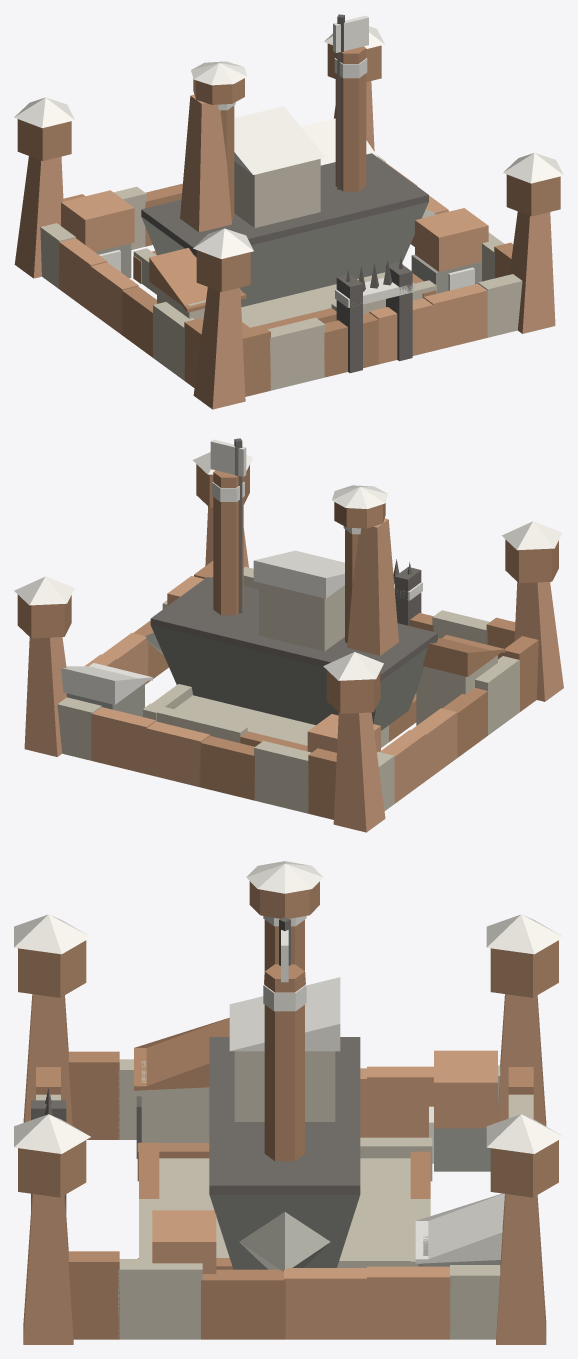
The model's file is capital.glb.
3 renders of one model, top to bottom at view 1: azimuth 30°, elevation 25°; view 2: azimuth 150°, elevation 25°; view 3: azimuth 270°, elevation 25°, orthographic. The views are drawn at different scales.
Visible parts, largest first — view 1: scrap_capital; view 2: scrap_capital; view 3: scrap_capital.
Part boxes in pixels (x1=…): scrap_capital: x1=14, y1=14, x2=563, y2=409; scrap_capital: x1=14, y1=438, x2=563, y2=832; scrap_capital: x1=14, y1=861, x2=563, y2=1344.
Size of the model in its own units: 1 by 0.6989 by 0.9928.
